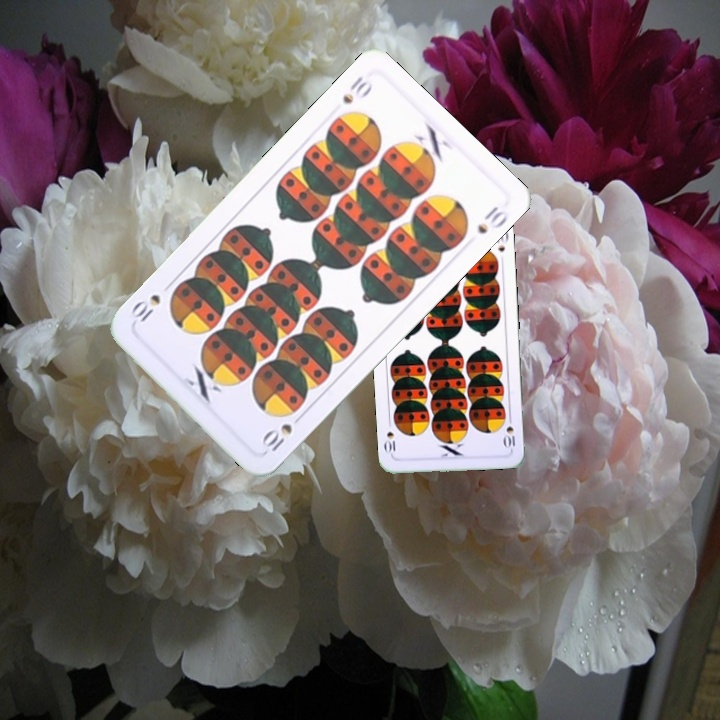S10: (257, 409, 307, 456), (338, 72, 376, 107), (501, 411, 517, 452)
